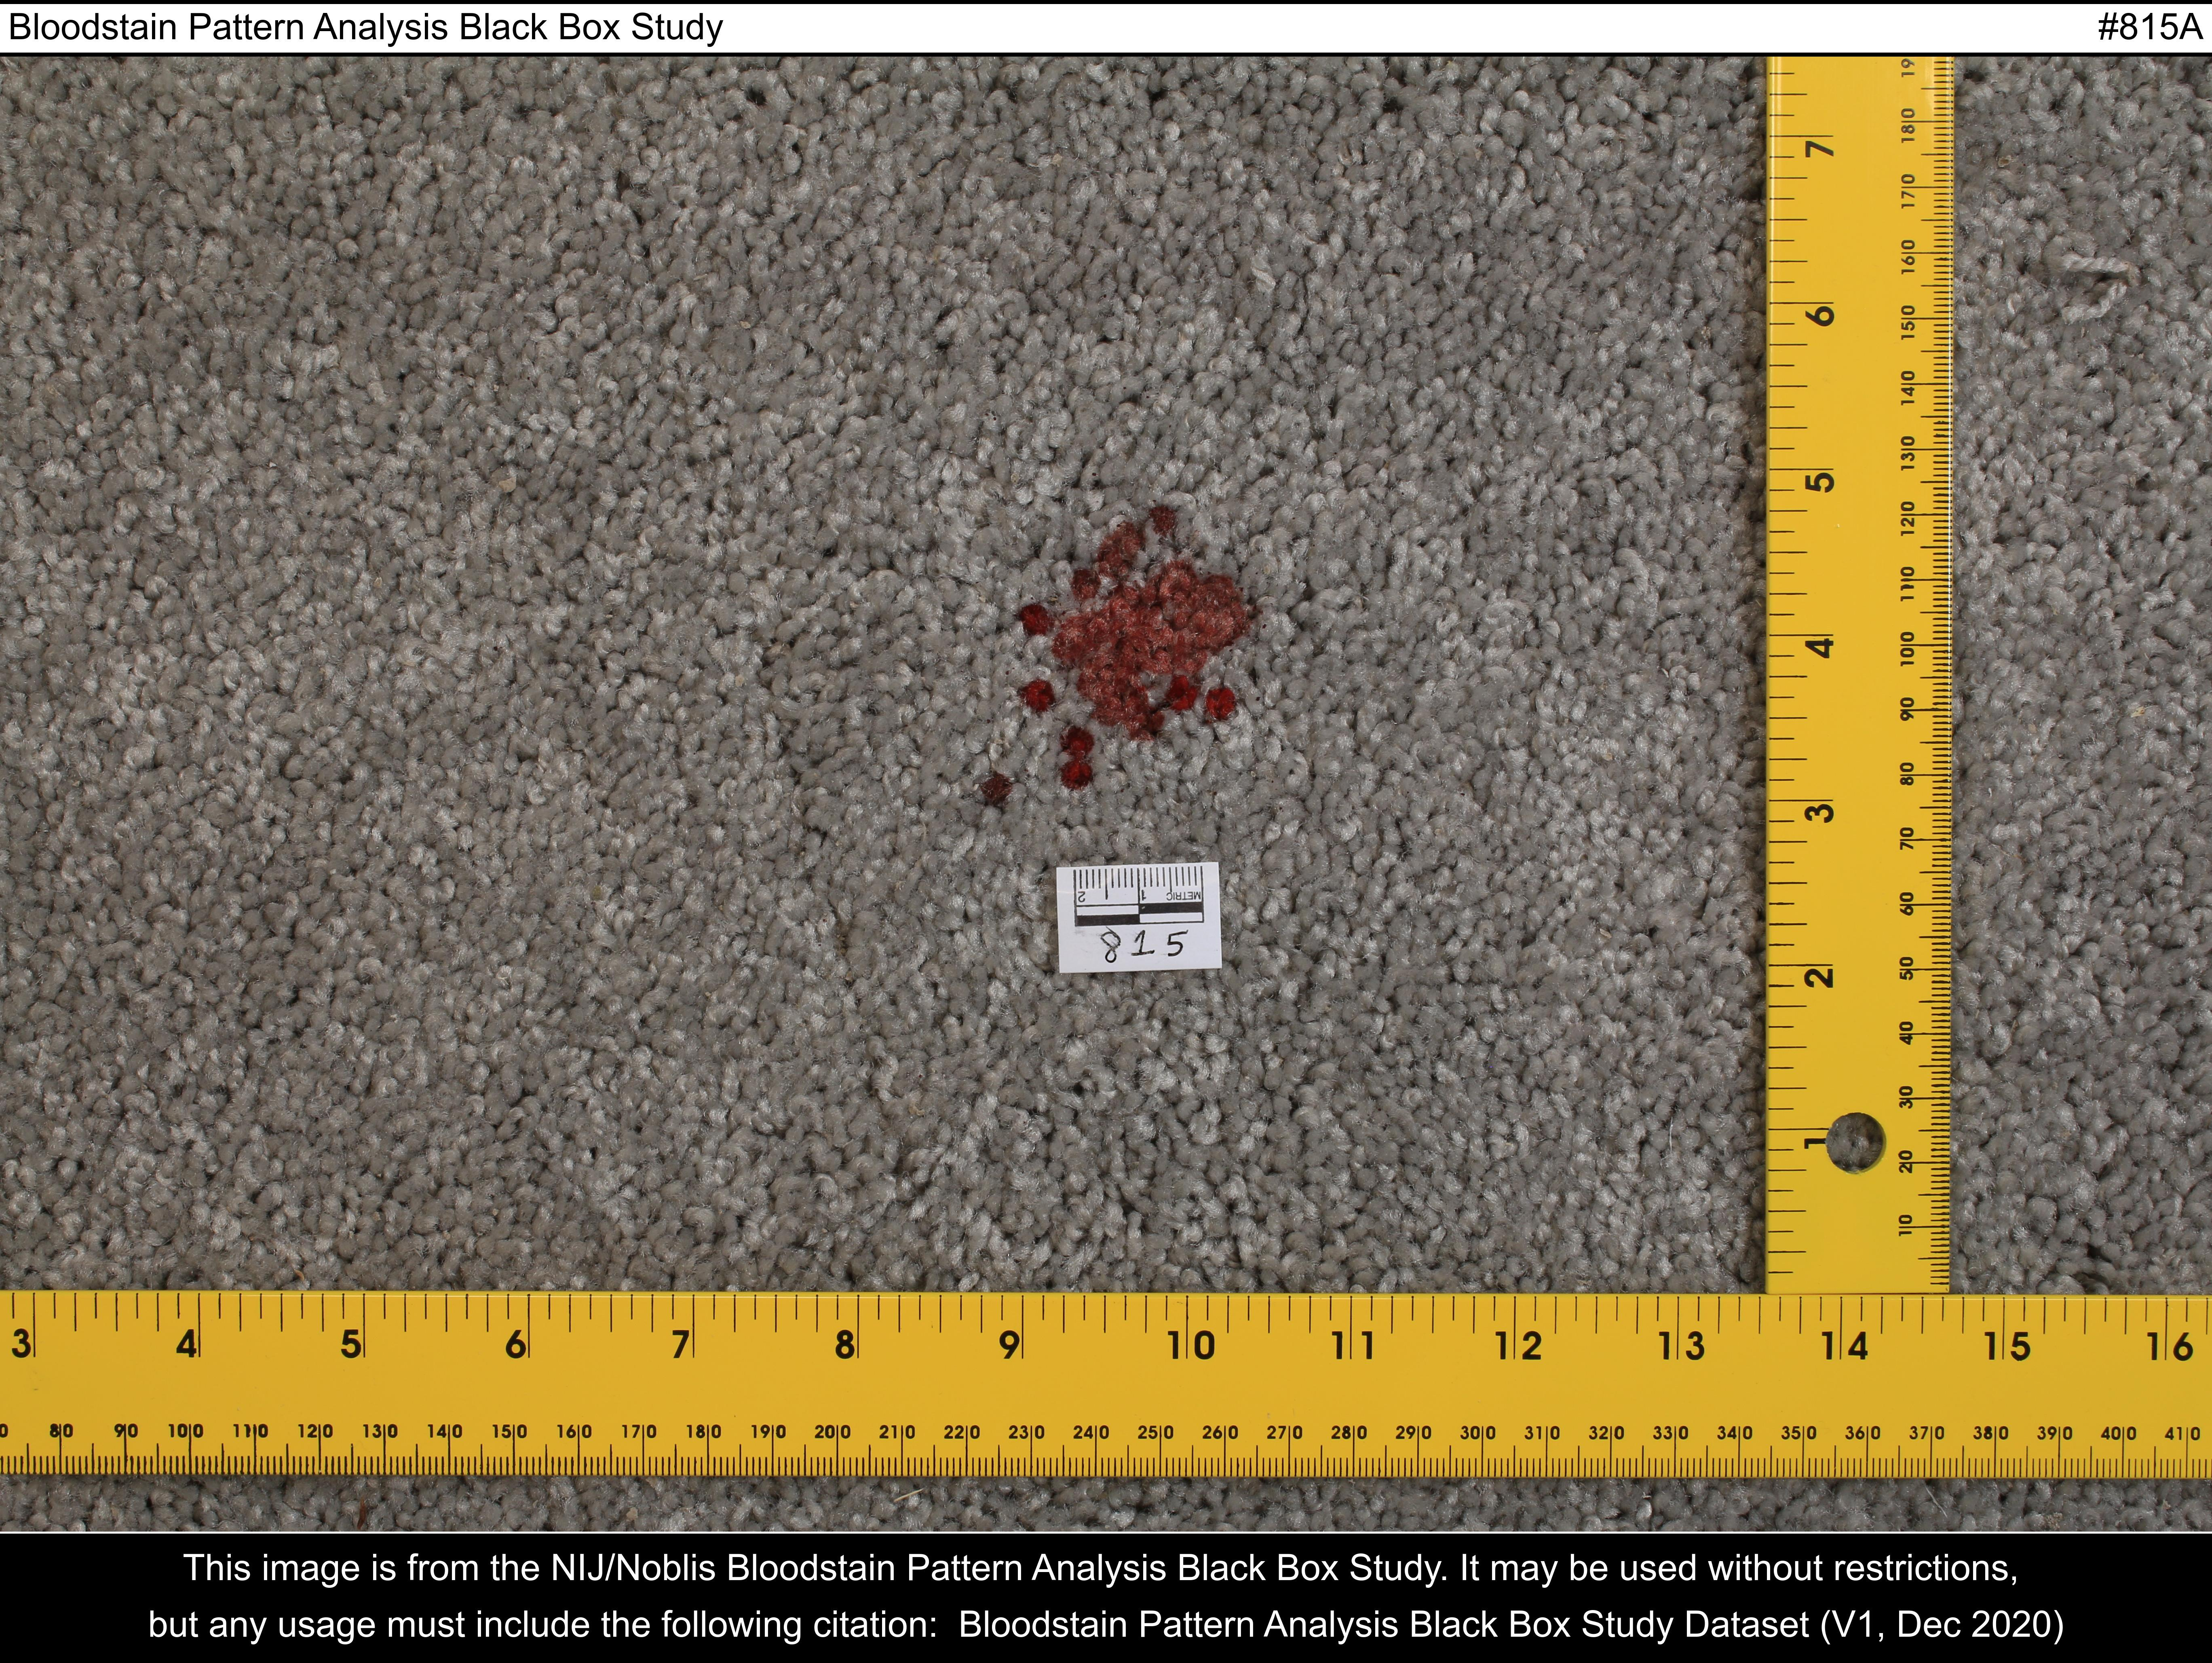Passive: (910, 496, 1323, 821)
